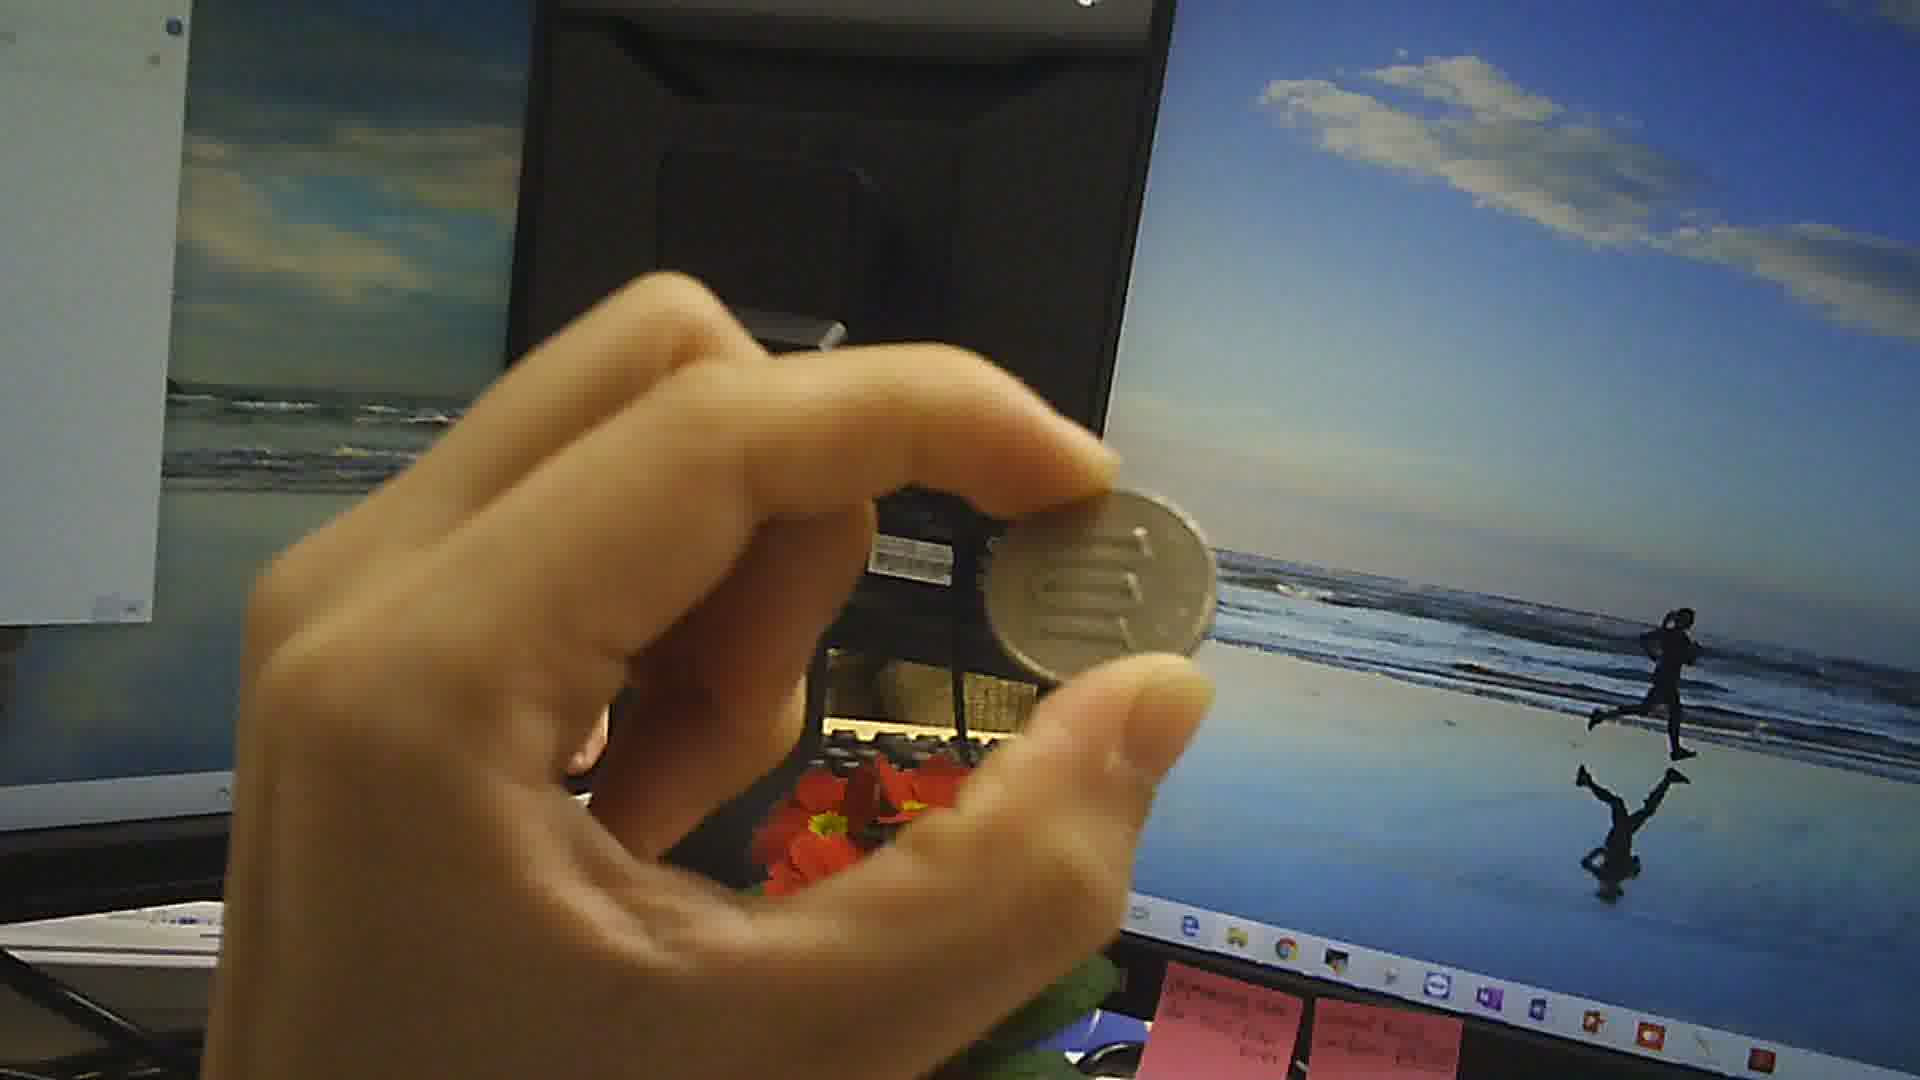100 Yen: (984, 477, 1220, 679)
